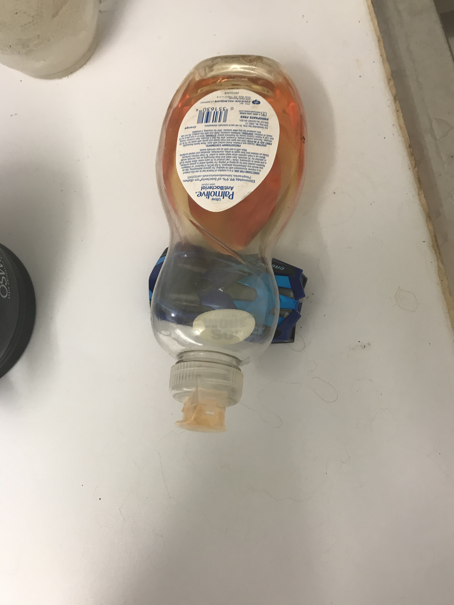Shock: (147, 240, 309, 343)
